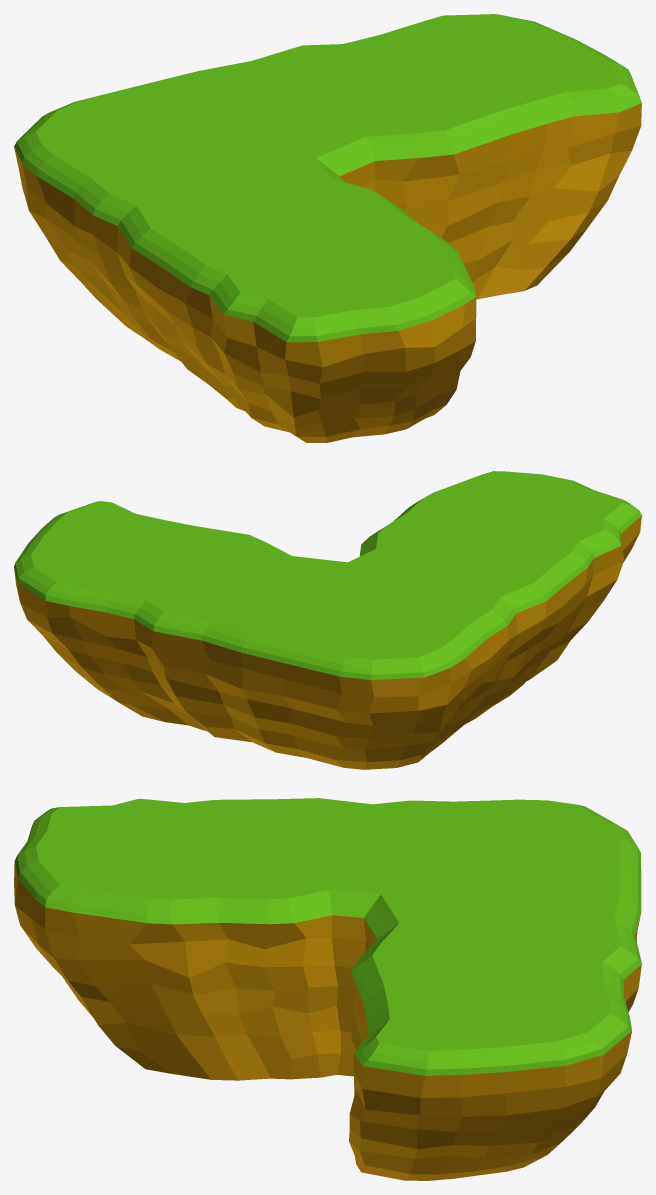
File: land5.fbx
3 views of the same model, one above another, from view 1: azimuth 30°, elevation 25°; view 2: azimuth 150°, elevation 25°; view 3: azimuth 270°, elevation 25° (orthographic). The views are drawn at different scales.
Visible parts, largest first — view 1: Plane; view 2: Plane; view 3: Plane.
Boxes of the visible parts, x1,y1,x2,y2 form: Plane: (14, 14, 641, 442); Plane: (14, 471, 641, 769); Plane: (14, 798, 641, 1180).
Bounding box in the file's own units: 675 × 203 × 659.
1 material, 1 textured.
